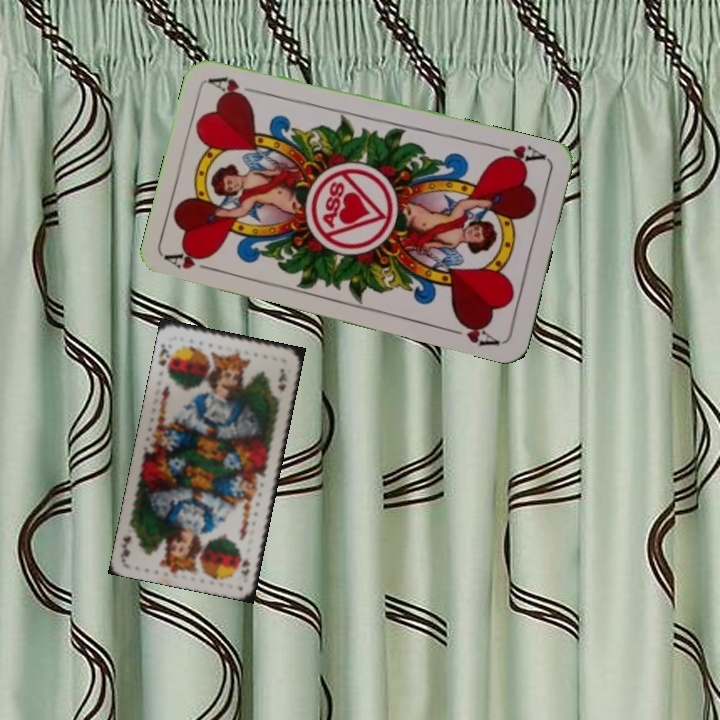HA: (490, 140, 549, 169), (163, 246, 222, 275)
SK: (154, 340, 175, 377), (237, 554, 252, 579)
